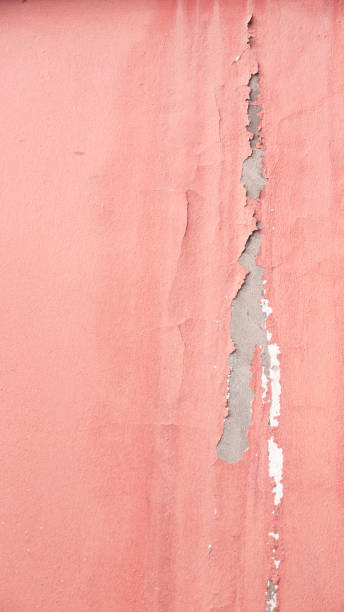wall_peeling: (212, 0, 283, 612)
